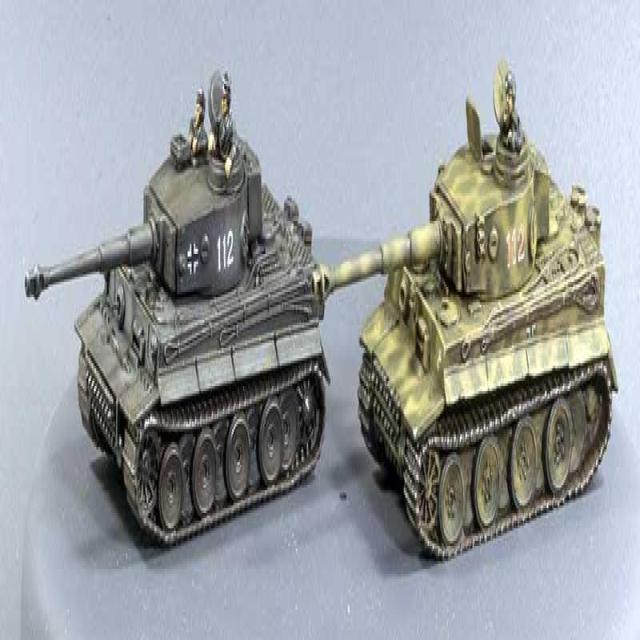MIL_MBT: (354, 90, 622, 540), (78, 77, 323, 522)
